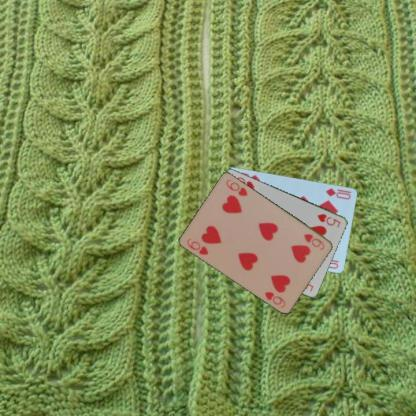10d: (324, 186, 353, 200)
5h: (315, 211, 341, 229)
6h: (301, 231, 326, 252), (184, 236, 210, 256)
